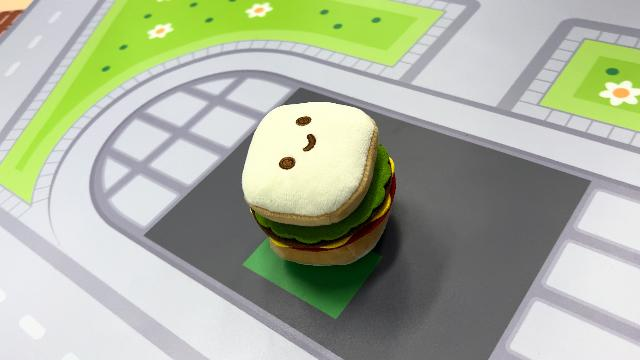sandwich: (240, 99, 398, 267)
